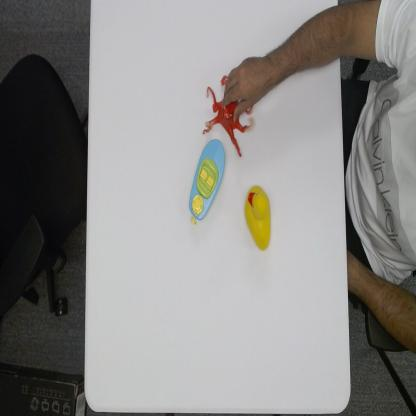Arm: (269, 0, 399, 84)
Boat: (188, 138, 226, 228)
Duck: (243, 182, 272, 252)
Hand: (221, 52, 273, 122)
Octopus: (202, 73, 255, 160)
